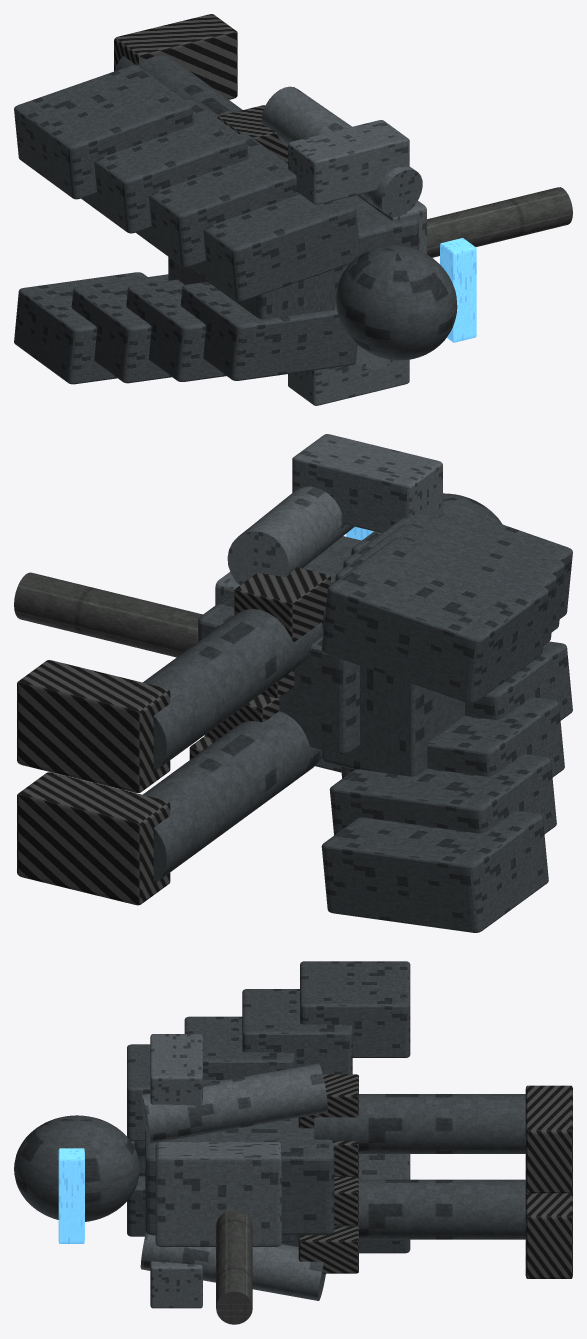
Rendered from s-u07-specter-infiltrator-lod0.glb.
The picture shows the model from 3 angles, top to bottom: view 1: azimuth 30°, elevation 25°; view 2: azimuth 150°, elevation 25°; view 3: azimuth 270°, elevation 25°; orthographic projection. The views are drawn at different scales.
Visible parts, largest first — view 1: cloak_1_3, cloak_1_0, soldier_0_helmet, cloak_-1_0, cloak_1_2, cloak_1_1, soldier_0_shoulder_1, cloak_-1_3, soldier_0_boot_1, cloak_-1_2, cloak_-1_1, soldier_0_rifle (+9 smaller); view 2: cloak_1_3, cloak_-1_3, soldier_0_boot_-1, soldier_0_boot_1, soldier_0_leg_-1, soldier_0_leg_1, cloak_-1_2, soldier_0_shoulder_1, soldier_0_rifle, soldier_0_backpack, soldier_0_torso, cloak_-1_1 (+8 smaller); view 3: soldier_0_chest, soldier_0_leg_1, soldier_0_leg_-1, cloak_1_3, soldier_0_helmet, soldier_0_arm_1, soldier_0_torso, cloak_1_2, soldier_0_boot_1, soldier_0_arm_-1, soldier_0_boot_-1, soldier_0_rifle (+11 smaller).
Part boxes in pixels (box(x1,y1,x2,y2)): cloak_1_3: box(14, 65, 193, 199); cloak_1_0: box(190, 194, 360, 301); soldier_0_helmet: box(336, 245, 457, 360); cloak_-1_0: box(180, 281, 357, 380); cloak_1_2: box(81, 99, 248, 233); cloak_1_1: box(135, 133, 299, 267); soldier_0_shoulder_1: box(288, 120, 409, 204); cloak_-1_3: box(14, 272, 147, 384); soldier_0_boot_1: box(114, 14, 237, 99); cloak_-1_2: box(71, 274, 171, 383); cloak_-1_1: box(126, 279, 225, 381); soldier_0_rifle: box(427, 187, 572, 257); cloak_1_3: box(321, 537, 548, 703); cloak_-1_3: box(321, 810, 548, 932); soldier_0_boot_-1: box(17, 772, 170, 905); soldier_0_boot_1: box(17, 660, 170, 792); soldier_0_leg_-1: box(143, 711, 322, 883); soldier_0_leg_1: box(143, 608, 323, 771); cloak_-1_2: box(329, 754, 556, 835); soldier_0_shoulder_1: box(292, 434, 442, 532); soldier_0_rifle: box(14, 572, 202, 657); soldier_0_backpack: box(322, 609, 464, 776); soldier_0_torso: box(198, 536, 361, 754); cloak_-1_1: box(341, 697, 564, 778); soldier_0_chest: box(155, 1142, 281, 1246); soldier_0_leg_1: box(314, 1094, 525, 1153); soldier_0_leg_-1: box(334, 1179, 525, 1239); cloak_1_3: box(300, 961, 410, 1057); soldier_0_helmet: box(14, 1115, 139, 1221); soldier_0_arm_1: box(140, 1063, 327, 1143); soldier_0_torso: box(145, 1117, 334, 1235); cloak_1_2: box(242, 989, 352, 1074); soldier_0_boot_1: box(525, 1085, 572, 1193); soldier_0_arm_-1: box(140, 1233, 325, 1300); soldier_0_boot_-1: box(525, 1190, 572, 1278); soldier_0_rifle: box(216, 1210, 252, 1324).
Size of what is drawn, in the model's own units: 1.91 by 1.05 by 2.13.
5 materials, 5 textured.
